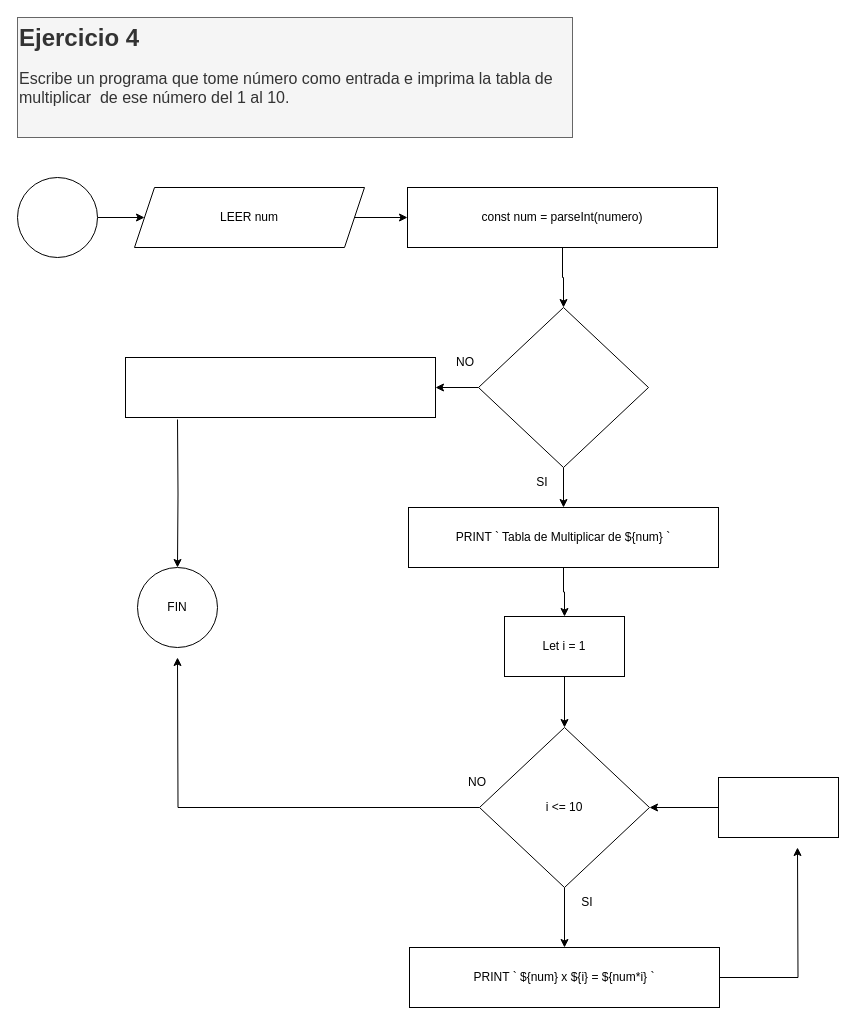
Image size: 856x1025. Some labels were removed from this diagram. The shapes that lost their labels are listed below. From the top down, each one's box as (x1, y1, x2, y2) in pixels, then its label:
(16, 176, 98, 258): INICIO
(124, 356, 436, 418): PRINT "Introduce número válido"
(478, 306, 648, 468): isNaN(num) || num<=0
(718, 776, 838, 838): i + +
